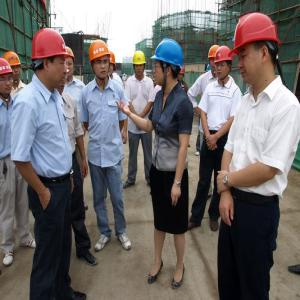blue: (152, 38, 184, 87)
red: (234, 15, 282, 93), (31, 30, 67, 90), (216, 47, 233, 83), (2, 59, 14, 101)
yellow: (89, 38, 110, 83), (5, 52, 22, 83), (132, 51, 147, 79), (65, 48, 75, 81), (209, 46, 219, 74), (109, 51, 117, 79)
